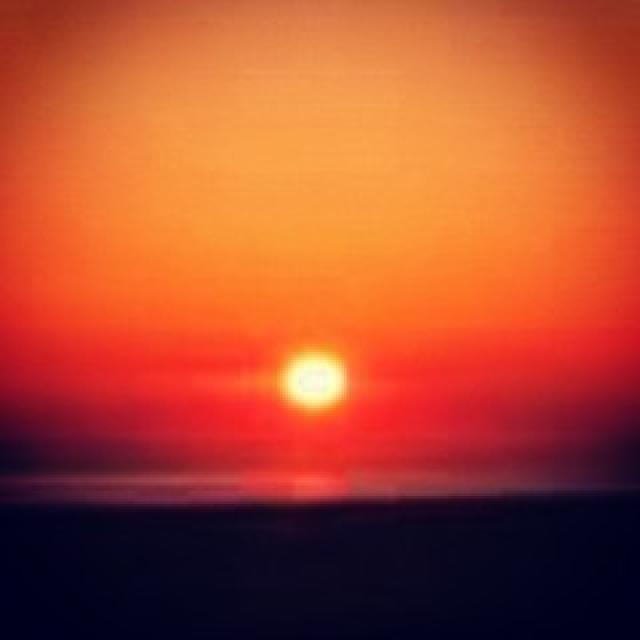sun: (257, 329, 369, 434)
